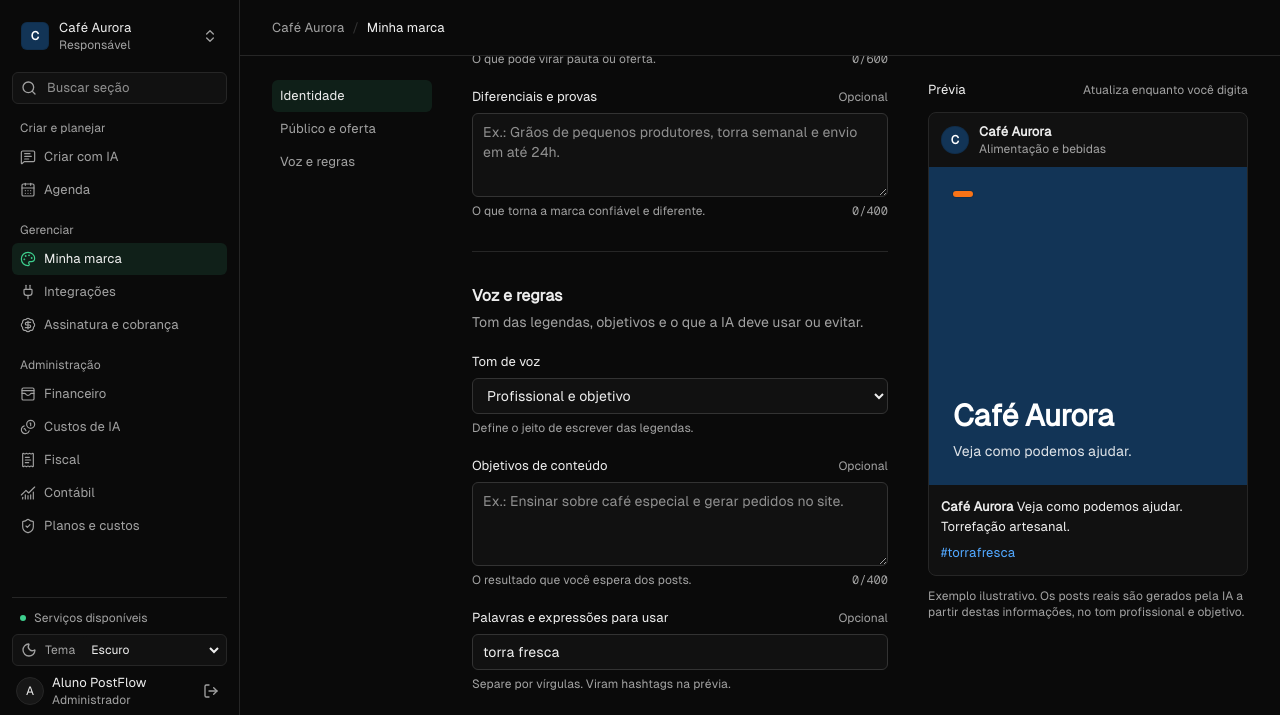
Test: BrandPage · marca existente › salva as alterações sem sair da página
(page scrolled)
Step 1. Select "Inspirador" in the dropdown labelled "Tom de voz" → (680, 396), box [472, 378, 888, 414]
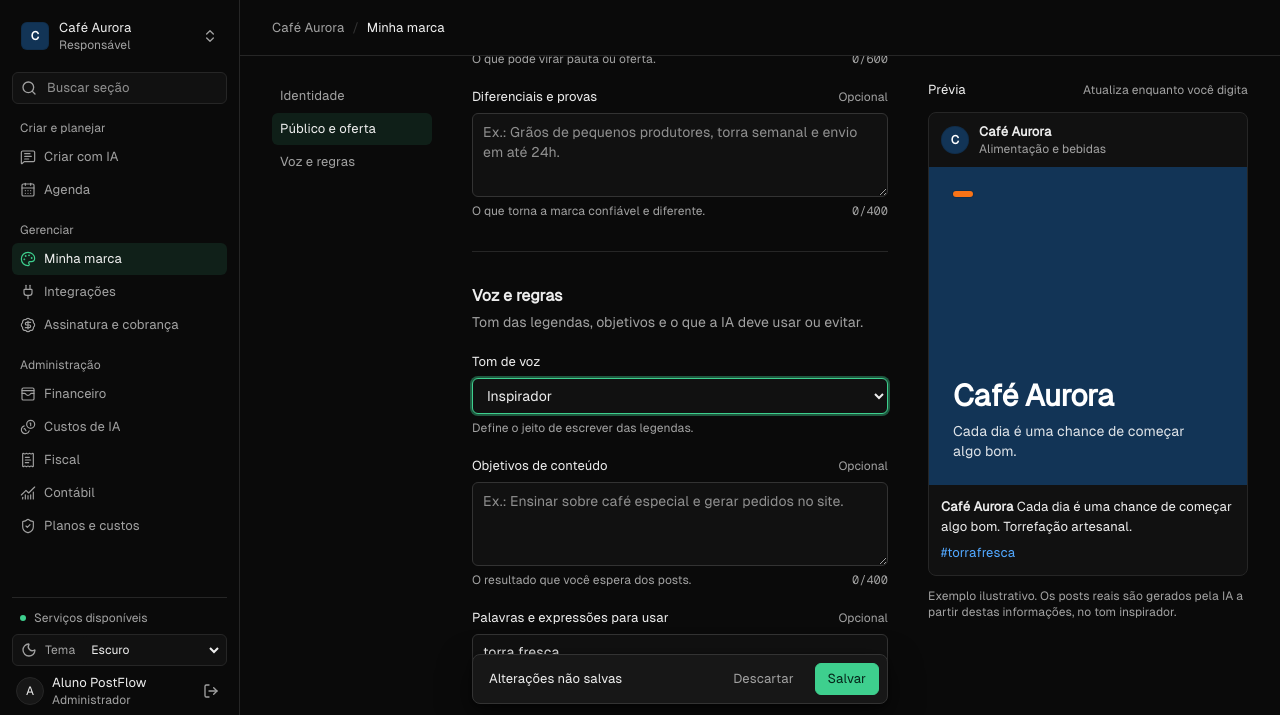
Step 2. Click the button "Salvar" → click(847, 679), box [815, 663, 879, 695]
(page scrolled)
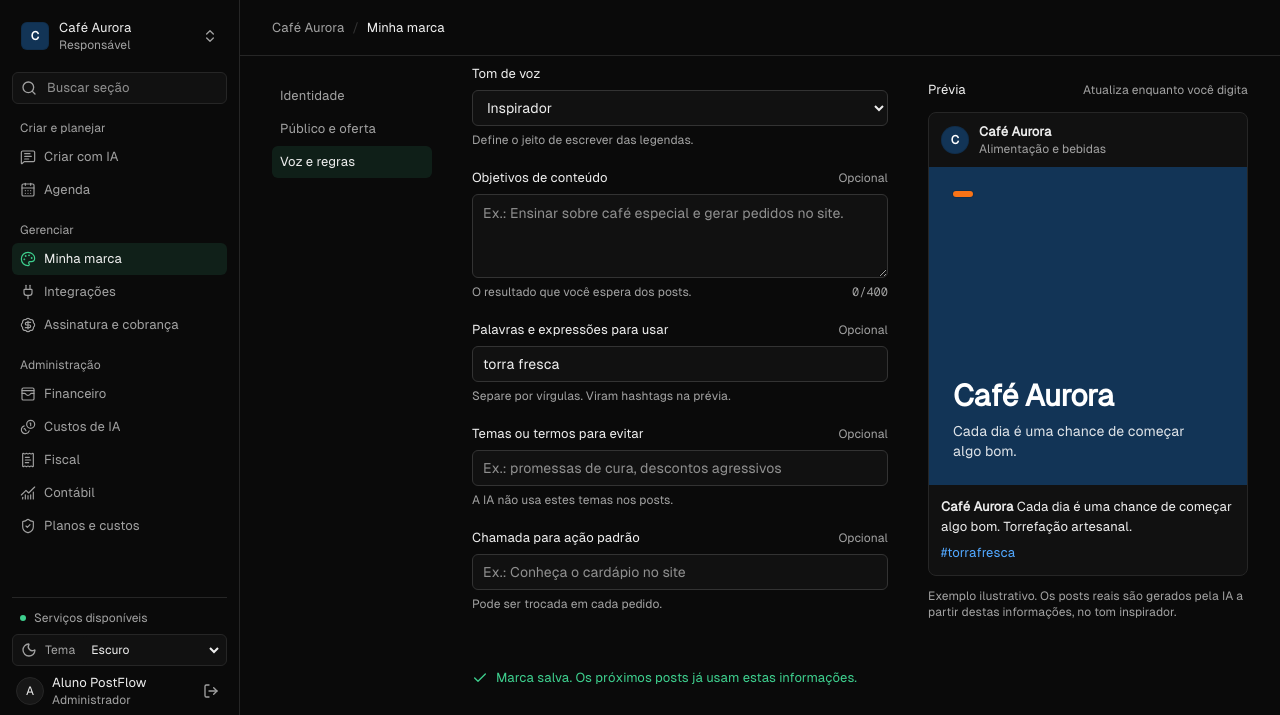
Now the text "Marca salva. Os próximos posts já usam estas informações." is shown, box [472, 668, 888, 688]
Now the text "Alterações não salvas" is gone
